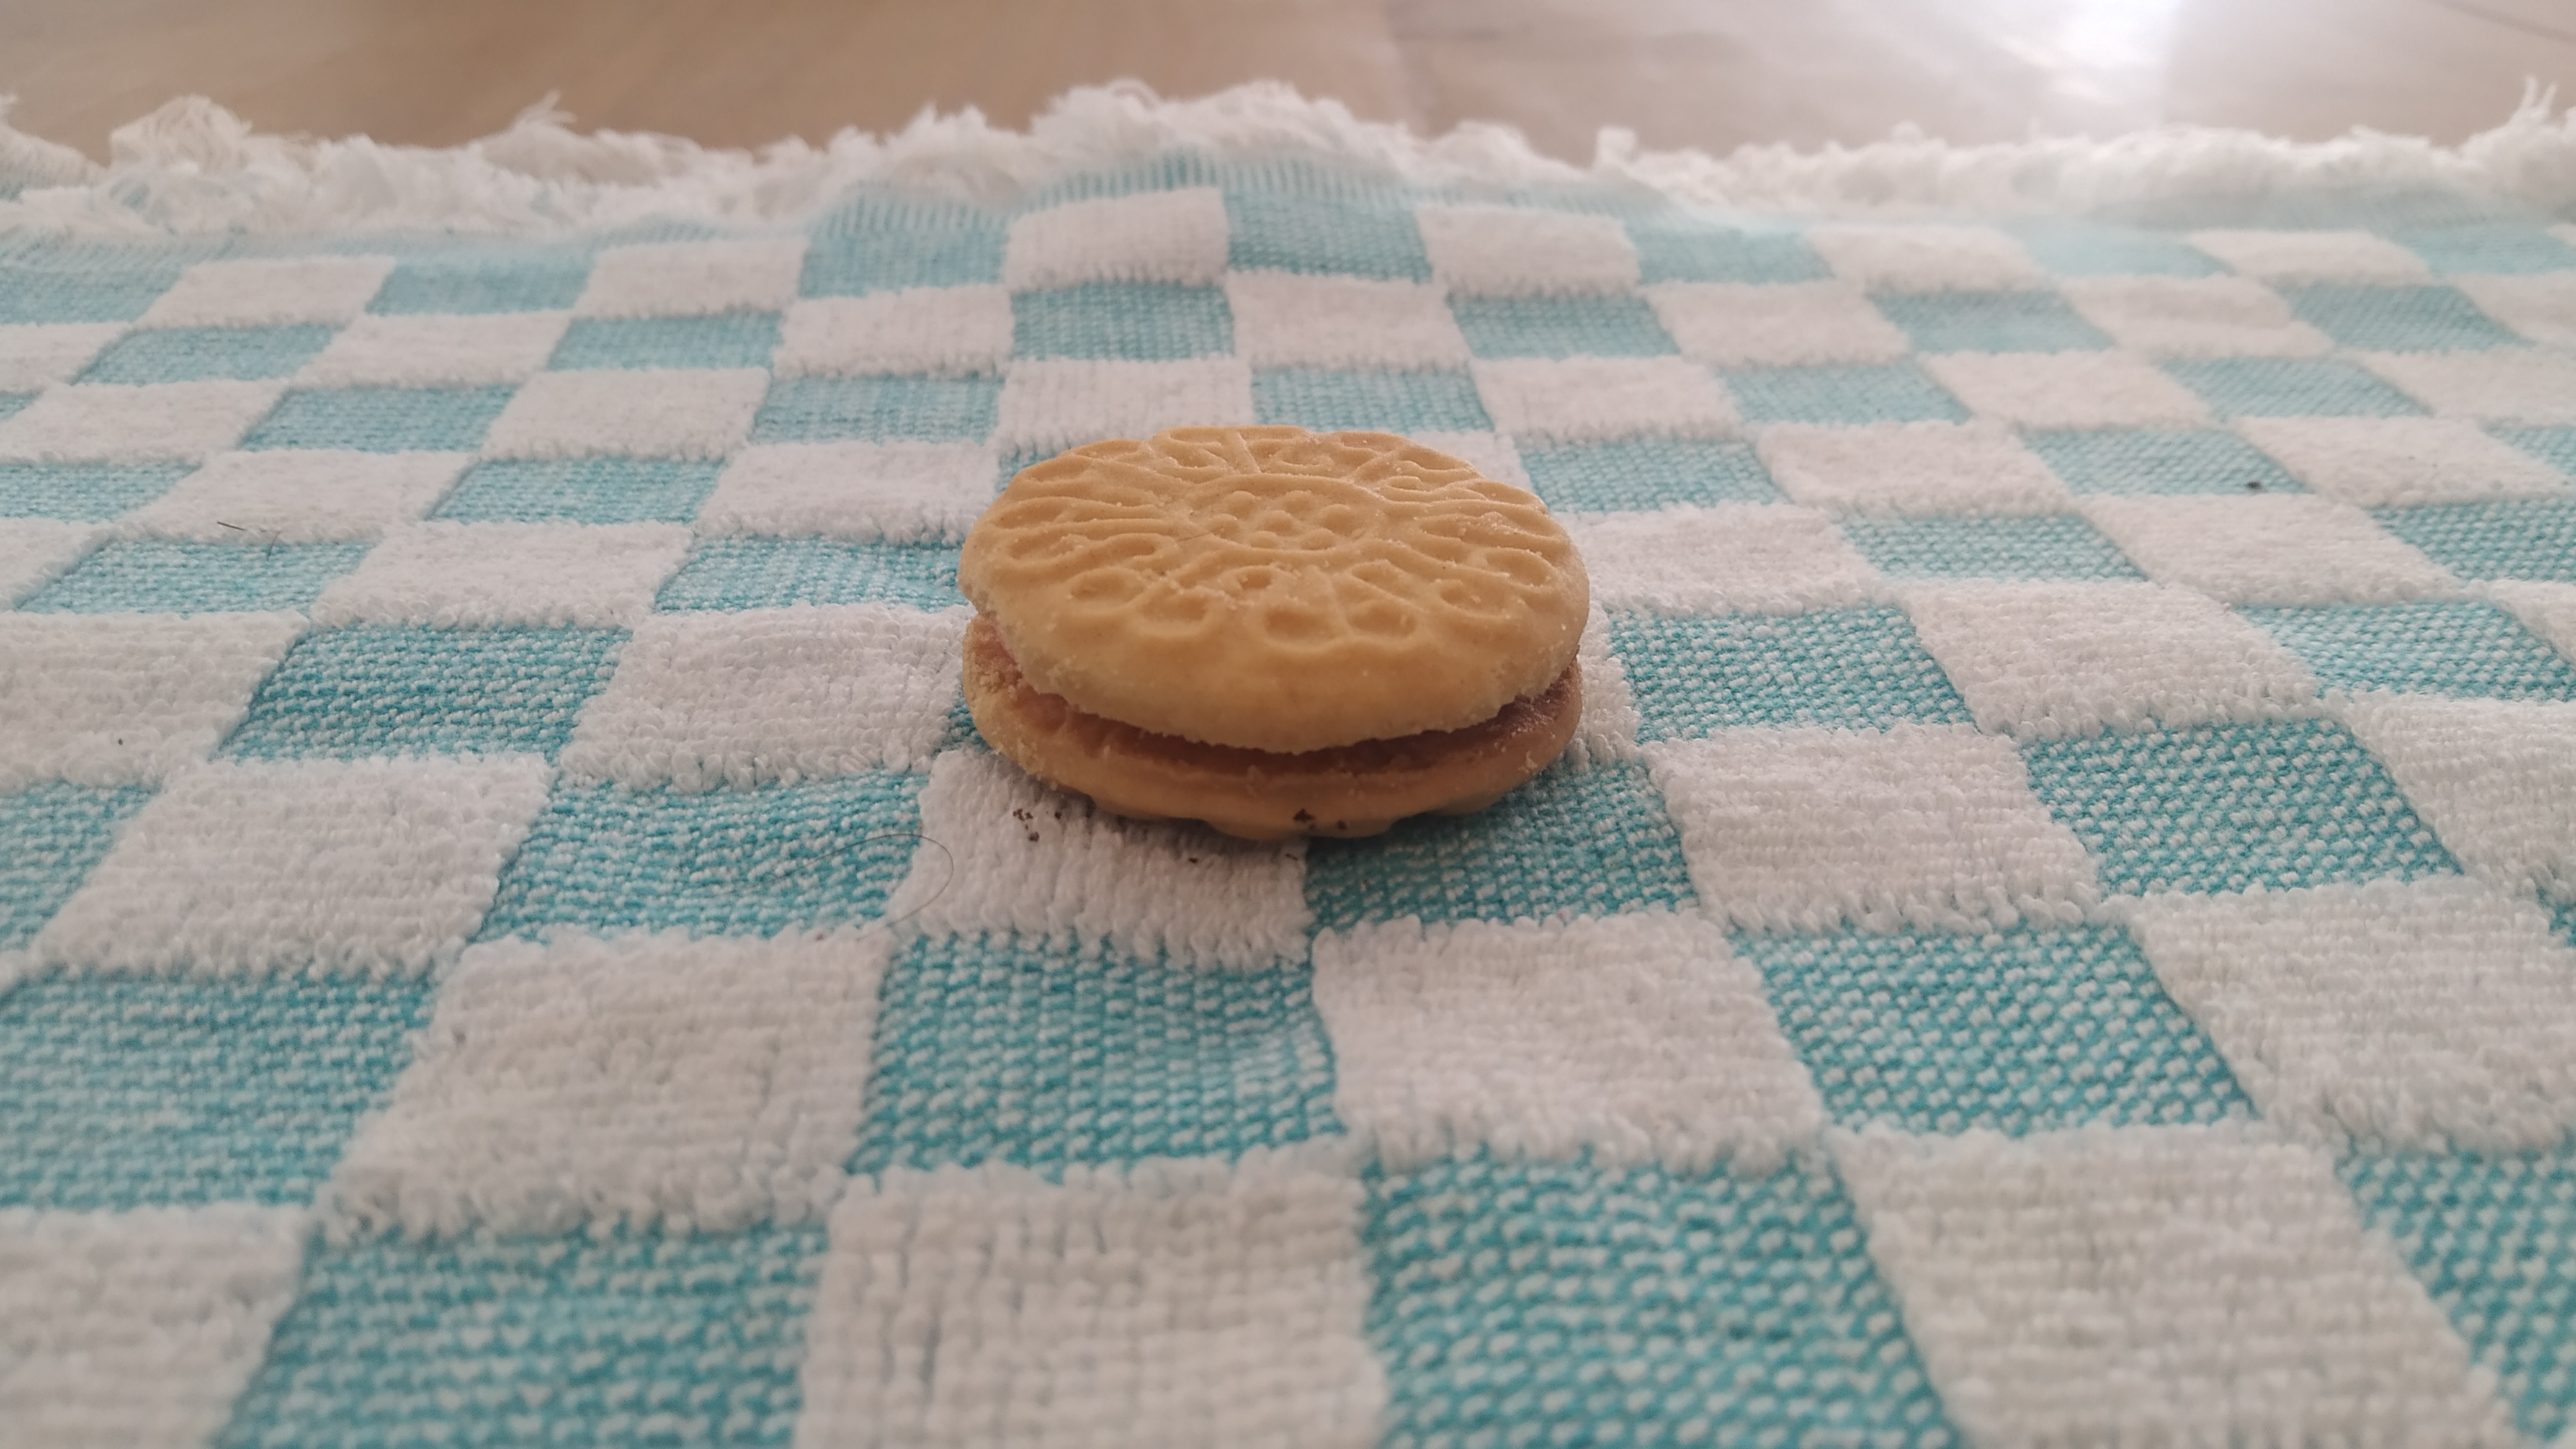lulu: (959, 425, 1591, 840)
